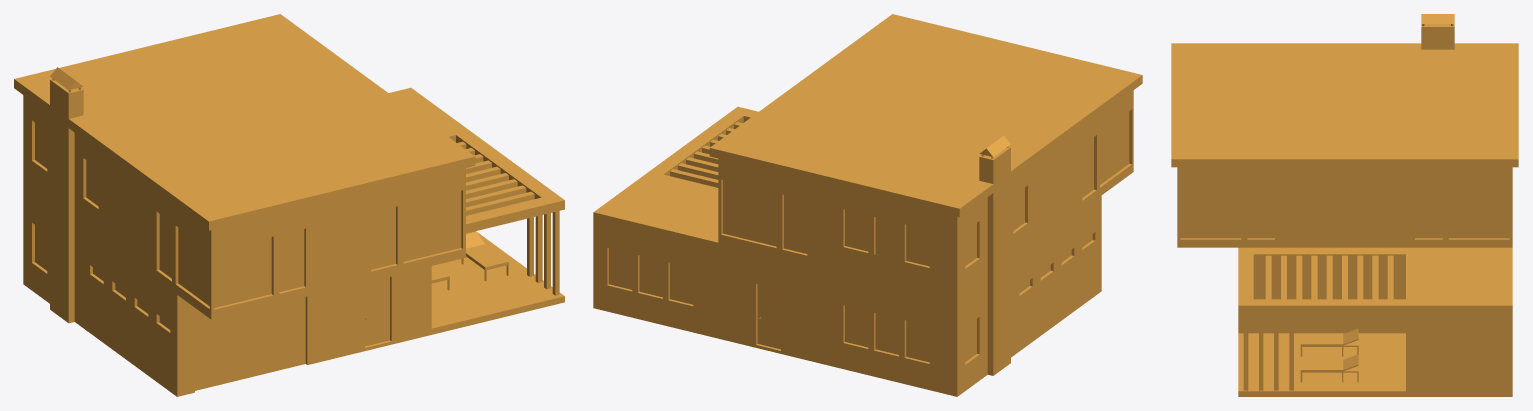
The model's file is building-house-modern.fbx.
3 views of the same model, side by side, from view 1: azimuth 30°, elevation 25°; view 2: azimuth 150°, elevation 25°; view 3: azimuth 270°, elevation 25° (orthographic). The views are drawn at different scales.
Visible parts, largest first — view 1: building-house-modern; view 2: building-house-modern; view 3: building-house-modern.
Boxes of the visible parts, box(x1,y1,x2,y2) form: building-house-modern: box(14, 14, 564, 396); building-house-modern: box(593, 14, 1142, 396); building-house-modern: box(1171, 14, 1518, 396).
Bounding box in the file's own units: 13.3 × 7.77 × 11.4.
